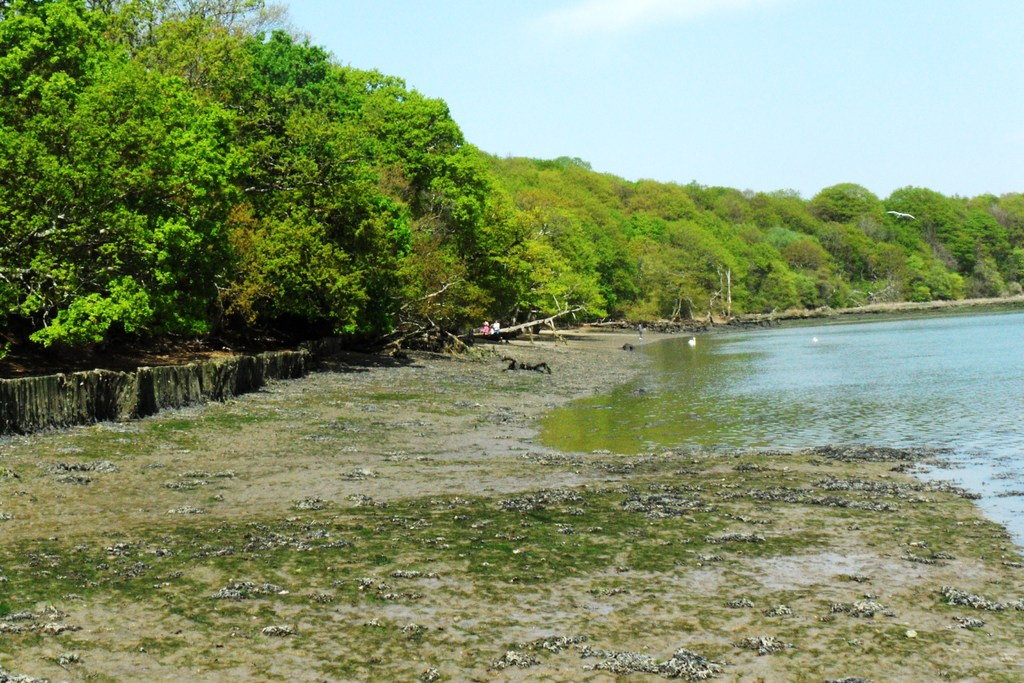Tree: (0, 0, 1022, 344)
